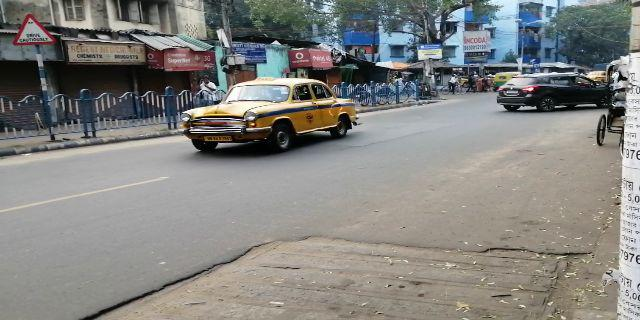Car: (185, 77, 359, 156), (500, 71, 602, 117)
